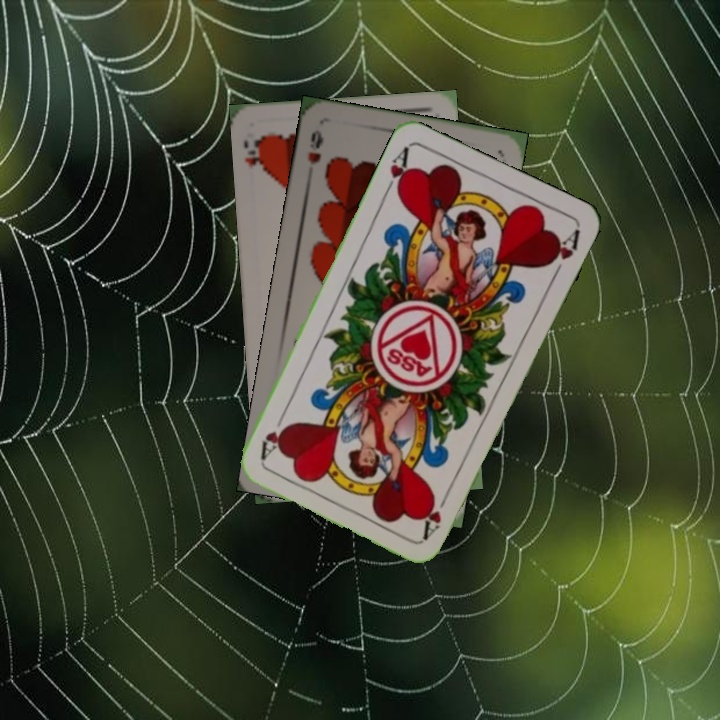H9: (303, 126, 326, 167)
HA: (379, 143, 414, 199), (419, 485, 453, 541)
HO: (240, 131, 267, 173)
